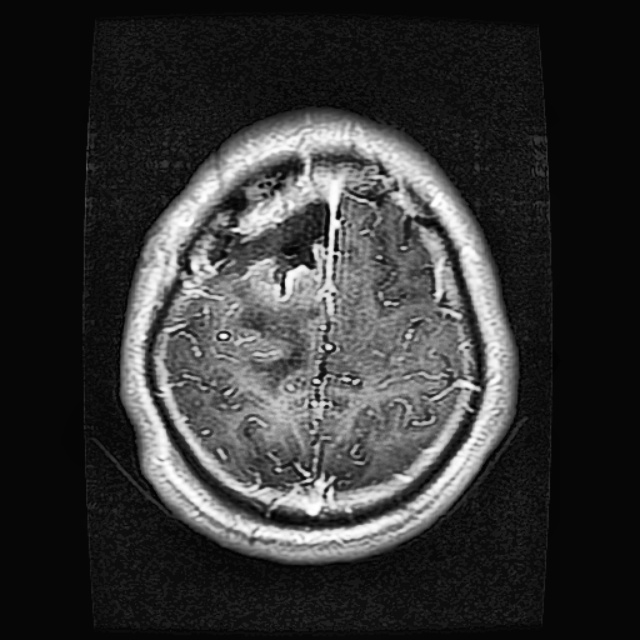Glioma: (209, 197, 333, 294)
